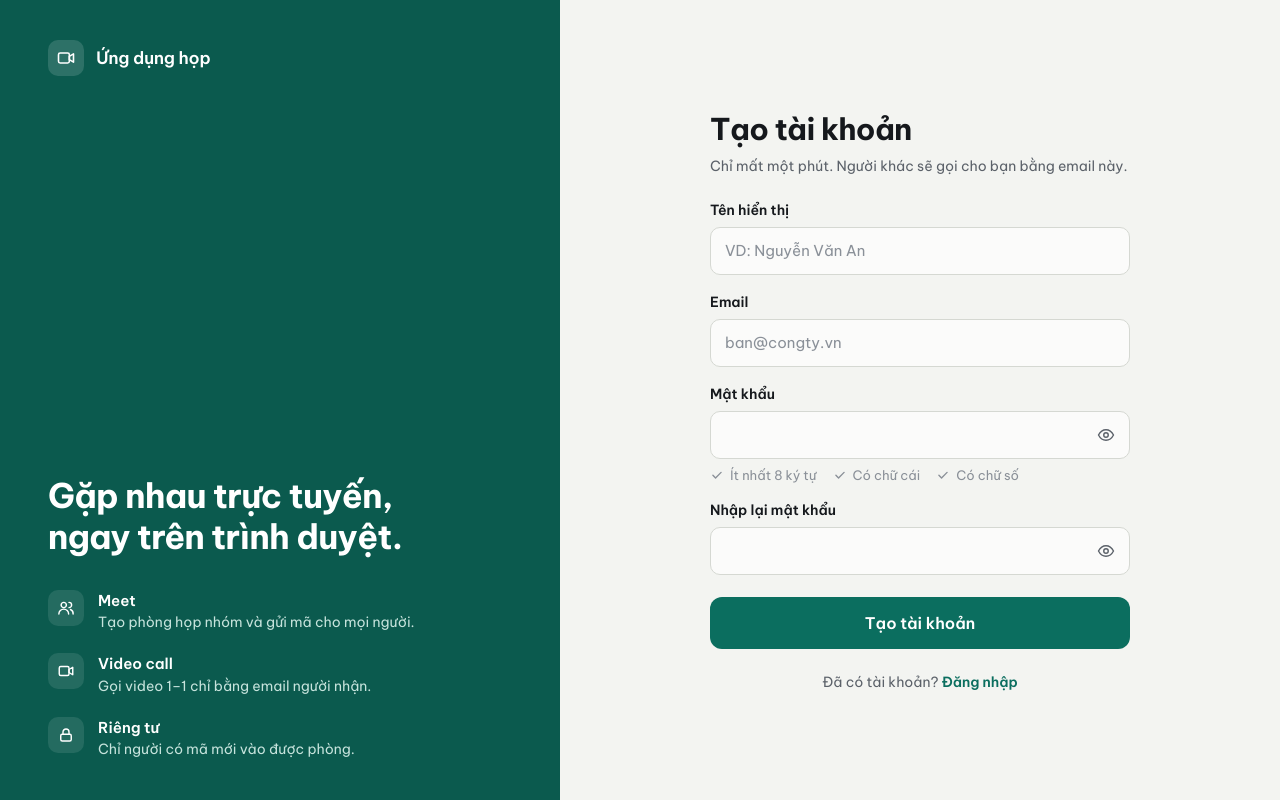
đăng ký › lỗi validation từ BE gắn vào đúng ô
Type "Nguyễn An" into the field labelled "Tên hiển thị" at [920, 250], box [710,226,1130,274]
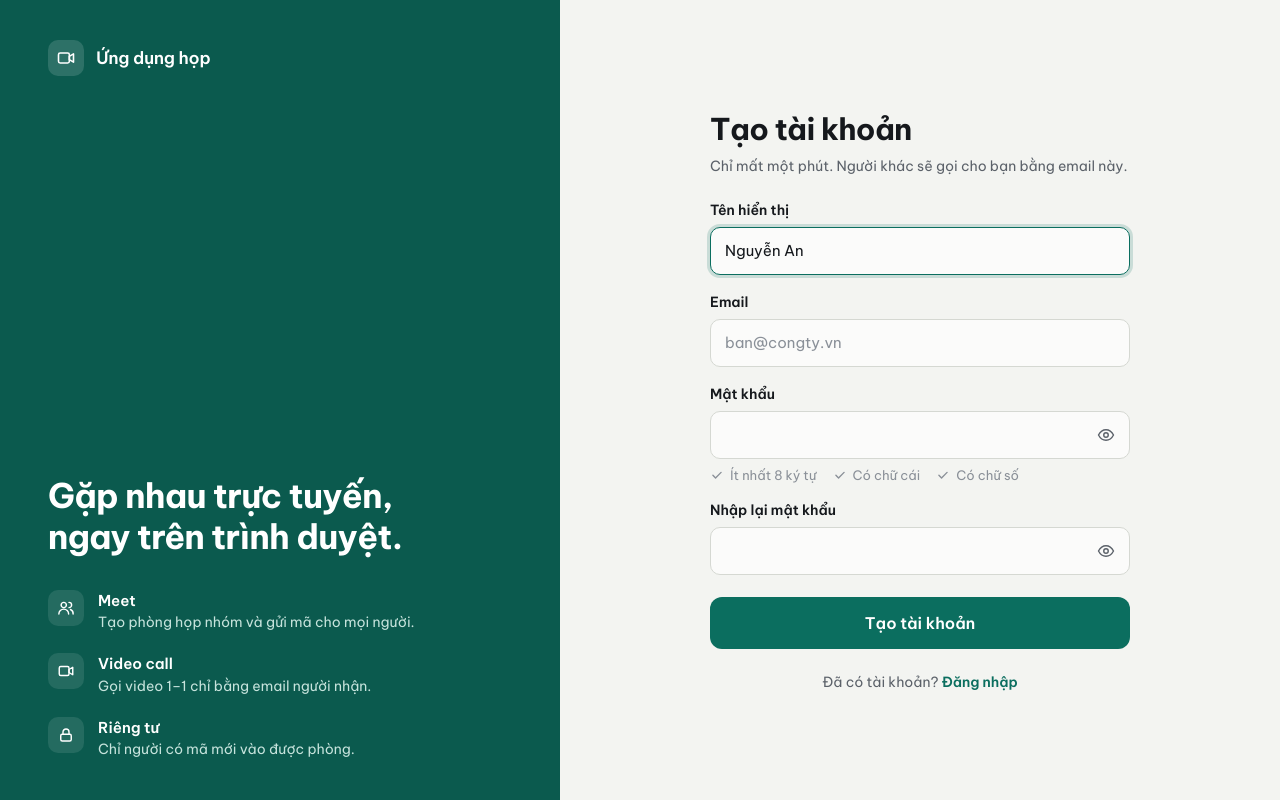
Type "an@congty.vn" into the field labelled "Email" at [920, 342], box [710,318,1130,366]
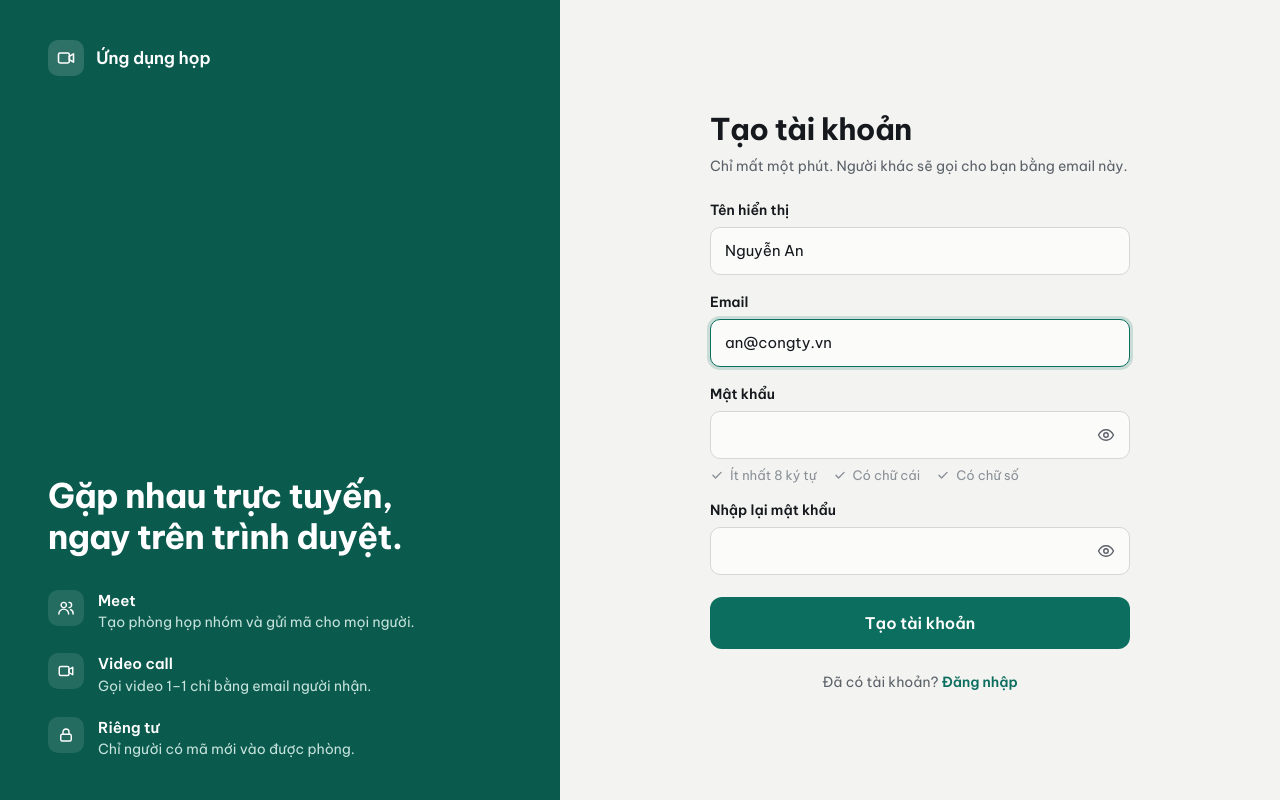
Type "matkhau123" into the password field labelled "Mật khẩu" at [920, 434], box [710,410,1130,458]
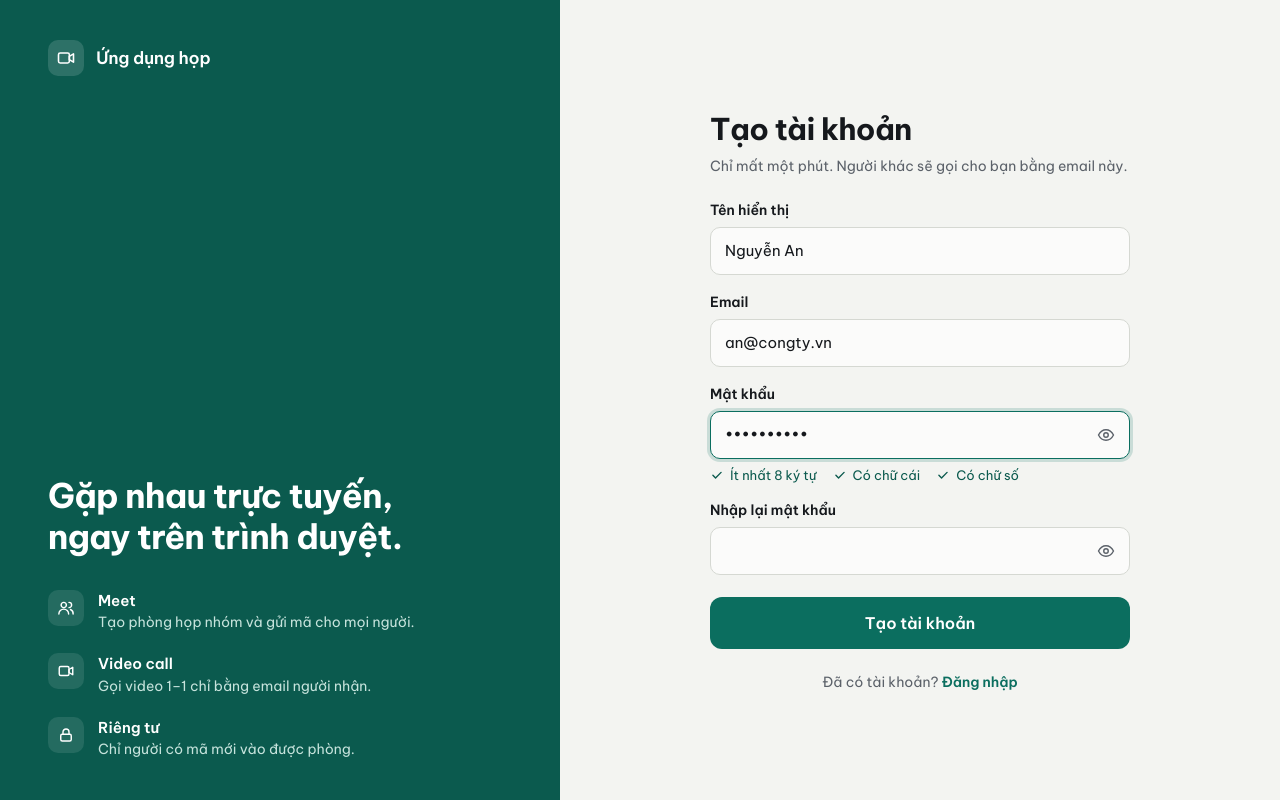
Type "matkhau123" into the password field labelled "Nhập lại mật khẩu" at [920, 550], box [710,526,1130,574]
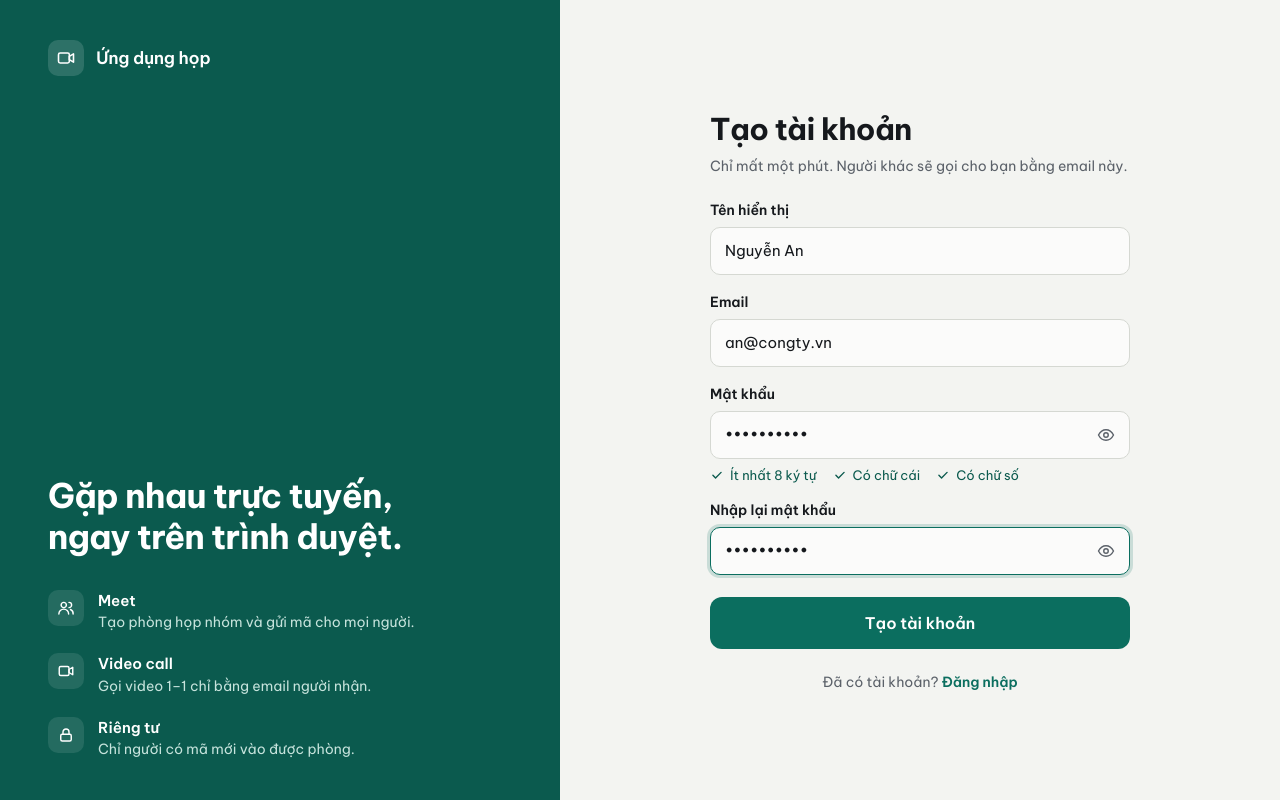
Click the button "Tạo tài khoản" at [920, 622], box [710,596,1130,648]
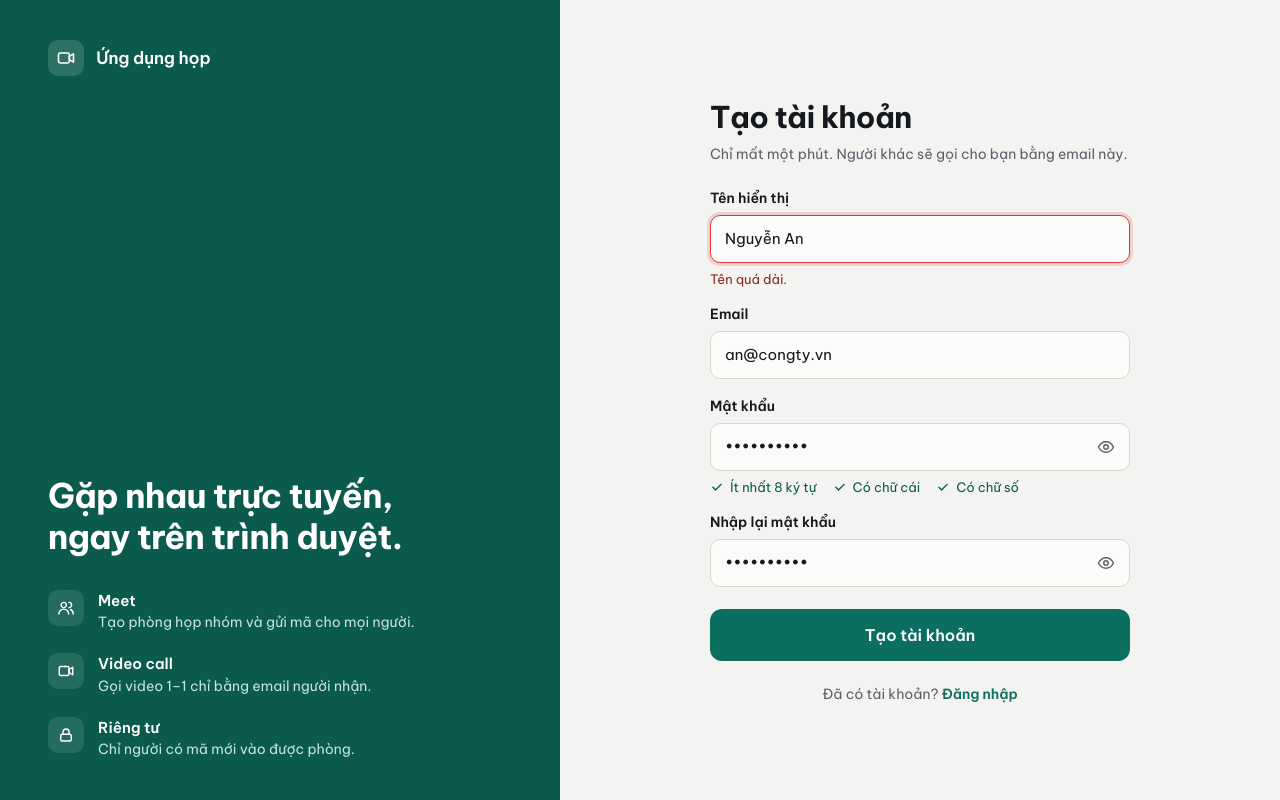
Result: the text "Tên quá dài." is shown at [710,270,787,286]
